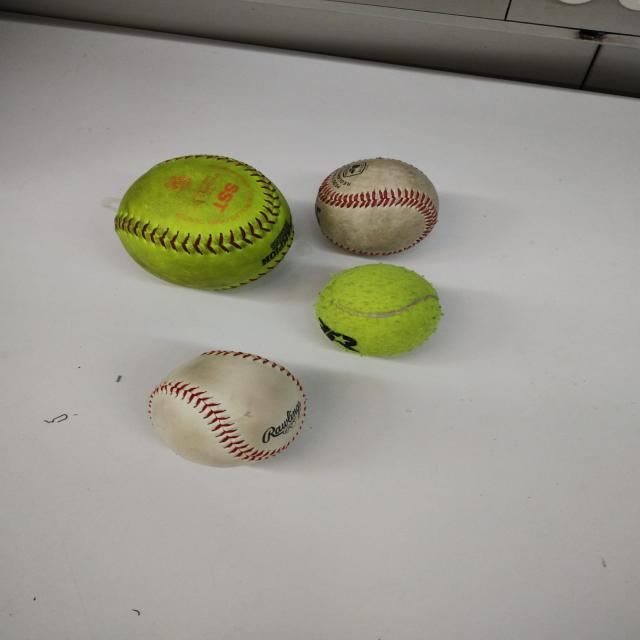beisbol ball: (146, 351, 307, 467), (314, 159, 441, 257)
softball ball: (113, 155, 293, 288)
tenis ball: (314, 263, 444, 357)
